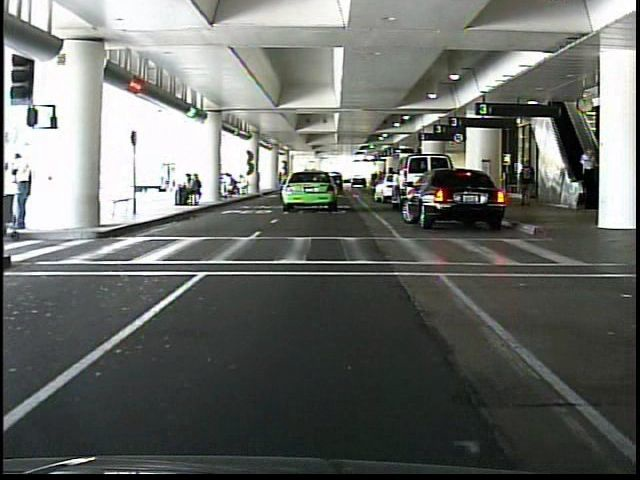person: (8, 151, 40, 232), (575, 143, 598, 205), (515, 156, 538, 213)
